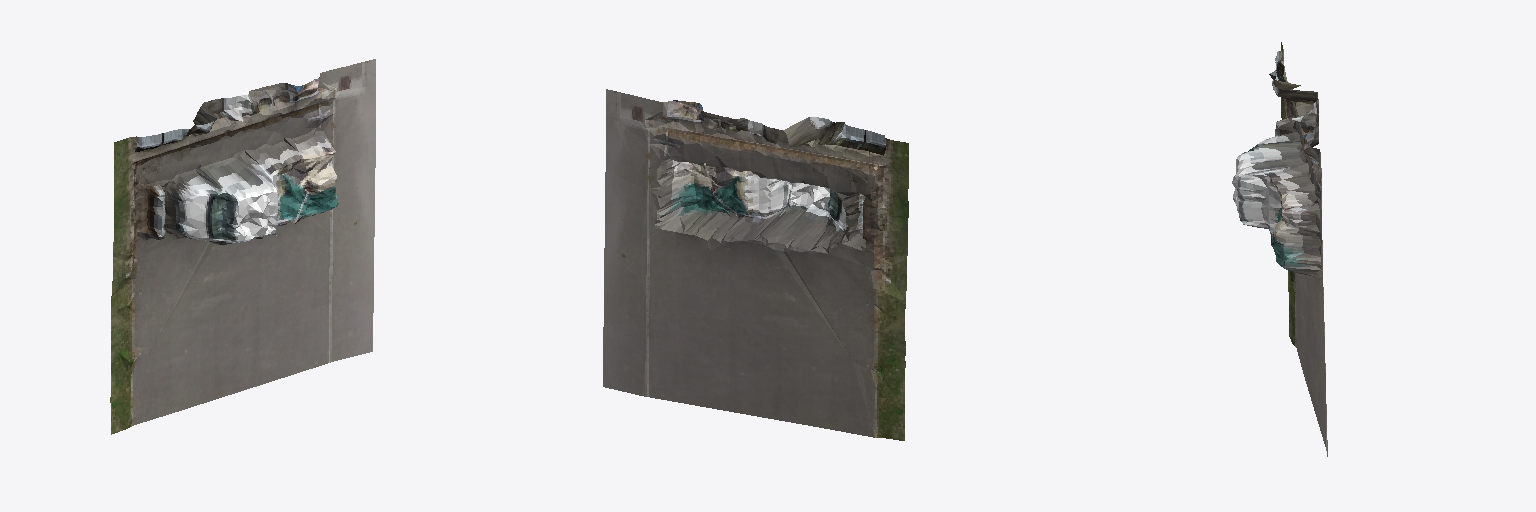
3 views of the same model, side by side, from view 1: azimuth 30°, elevation 25°; view 2: azimuth 150°, elevation 25°; view 3: azimuth 270°, elevation 25° (orthographic).
Parts seen in each view (by area): view 1: grp1; view 2: grp1; view 3: grp1.
Boxes of the visible parts, <box> form: grp1: <box>110,59,375,434</box>; grp1: <box>603,89,908,440</box>; grp1: <box>1232,42,1327,456</box>.
Bounding box in the file's own units: 10 × 10 × 2.96.
1 materials, 1 textured.